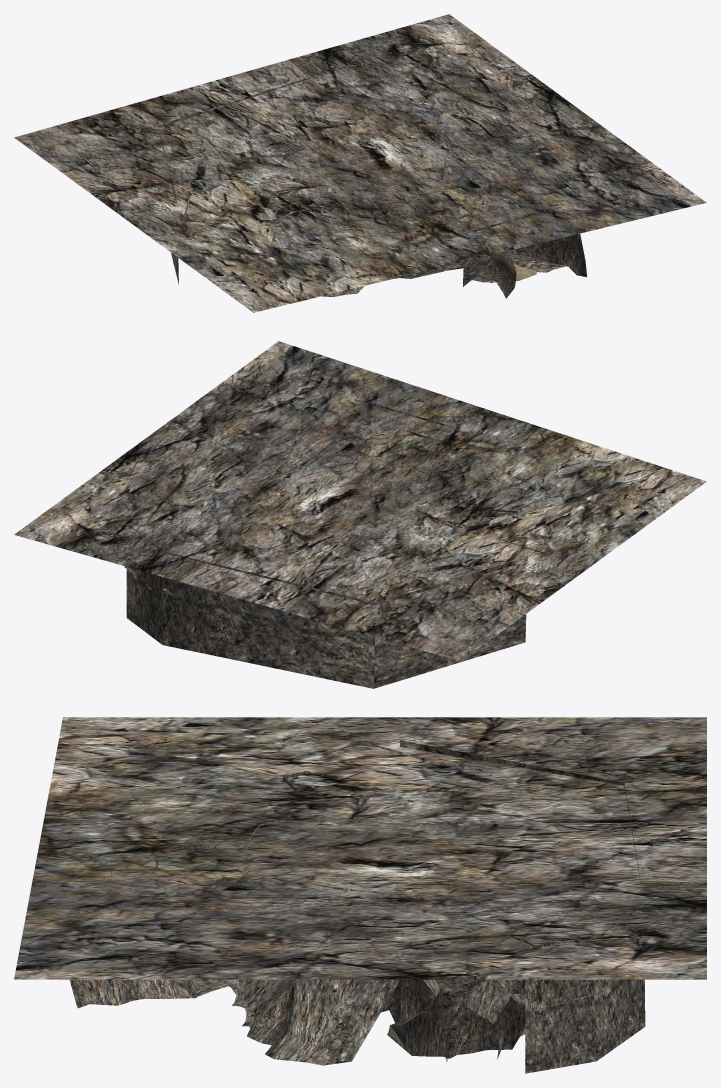
File: pir_m_are_cav_barbossa.fbx
The picture shows the model from 3 angles, top to bottom: view 1: azimuth 30°, elevation 25°; view 2: azimuth 150°, elevation 25°; view 3: azimuth 270°, elevation 25°; orthographic projection. The views are drawn at different scales.
Visible parts, largest first — view 1: CeilingBG, Rocks_152, Rocks_6, Rocks_151, OutsideBGwalls1; view 2: CeilingBG, OutsideBGwalls1, OutsideBGwalls2; view 3: CeilingBG, OutsideBGwalls2, Rocks_5G, Rocks_14, Rocks_5G1, Rocks_152, Rocks_154G, OutsideBGwalls1, Rocks_151.
Part boxes in pixels (x1,y1,x2,y2): CeilingBG: [14, 14, 706, 312]; Rocks_152: [454, 182, 586, 286]; Rocks_6: [412, 213, 516, 298]; Rocks_151: [411, 254, 567, 282]; OutsideBGwalls1: [158, 85, 282, 284]; CeilingBG: [14, 341, 706, 661]; OutsideBGwalls1: [235, 556, 527, 688]; OutsideBGwalls2: [126, 498, 237, 659]; CeilingBG: [14, 717, 706, 979]; OutsideBGwalls2: [525, 863, 645, 1073]; Rocks_5G: [305, 887, 524, 1065]; Rocks_14: [387, 940, 542, 1058]; Rocks_5G1: [195, 876, 336, 1062]; Rocks_152: [69, 855, 263, 1008]; Rocks_154G: [346, 979, 448, 1061]; OutsideBGwalls1: [400, 740, 637, 862]; Rocks_151: [144, 979, 243, 1006].
Bounding box in the file's own units: 41110 × 8730 × 42157.
3 materials, 3 textured.
